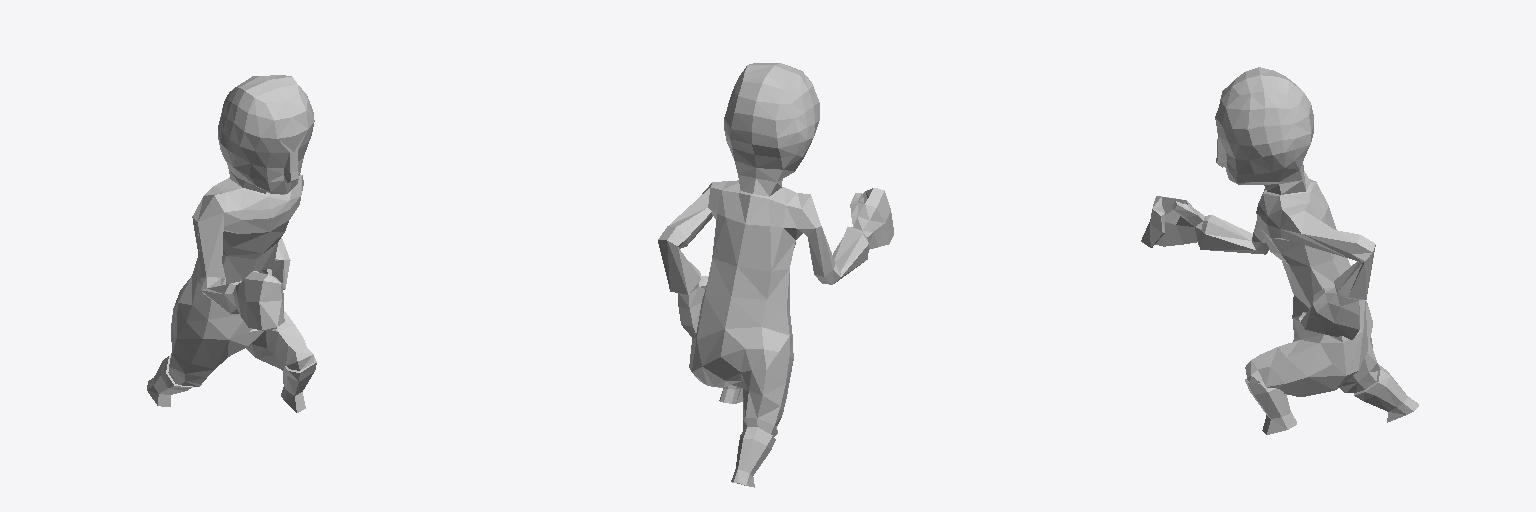
File: KnightCharacter8.obj
The picture shows the model from 3 angles: view 1: azimuth 30°, elevation 25°; view 2: azimuth 150°, elevation 25°; view 3: azimuth 270°, elevation 25°; orthographic projection.
Visible parts, largest first — view 1: Knight; view 2: Knight; view 3: Knight.
Boxes of the visible parts, box(x1,y1,x2,y2) form: Knight: box(147, 75, 316, 412); Knight: box(658, 63, 893, 487); Knight: box(1141, 67, 1418, 434).
Size of the model in its own units: 1.95 by 5.12 by 3.54.